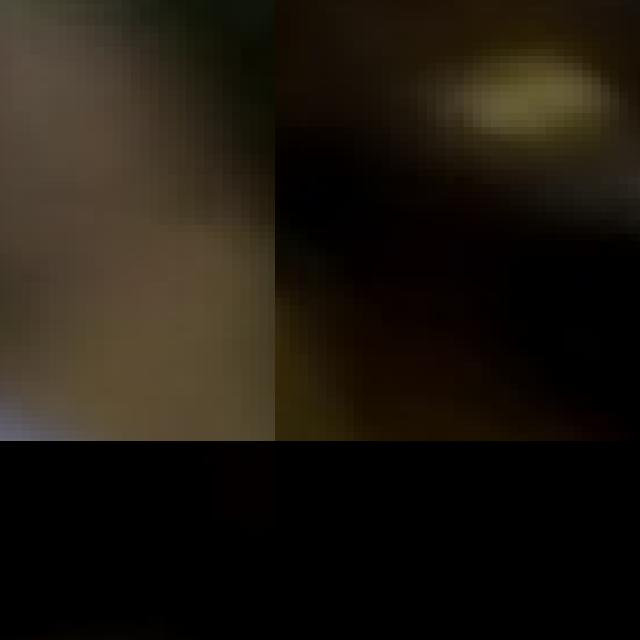fish: (275, 0, 640, 441), (0, 0, 275, 441)
